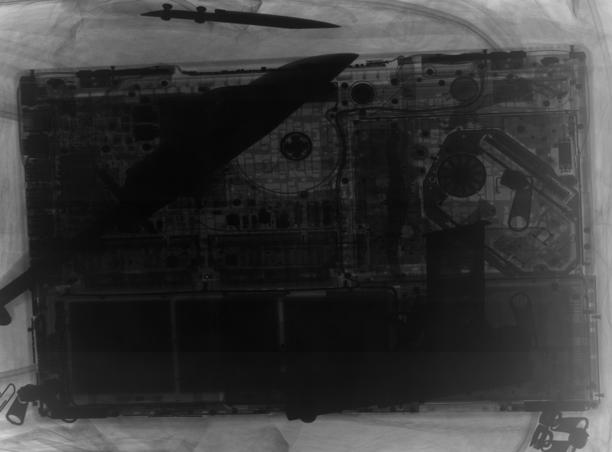Handgun: (282, 215, 535, 426)
Knife: (1, 50, 361, 329)
